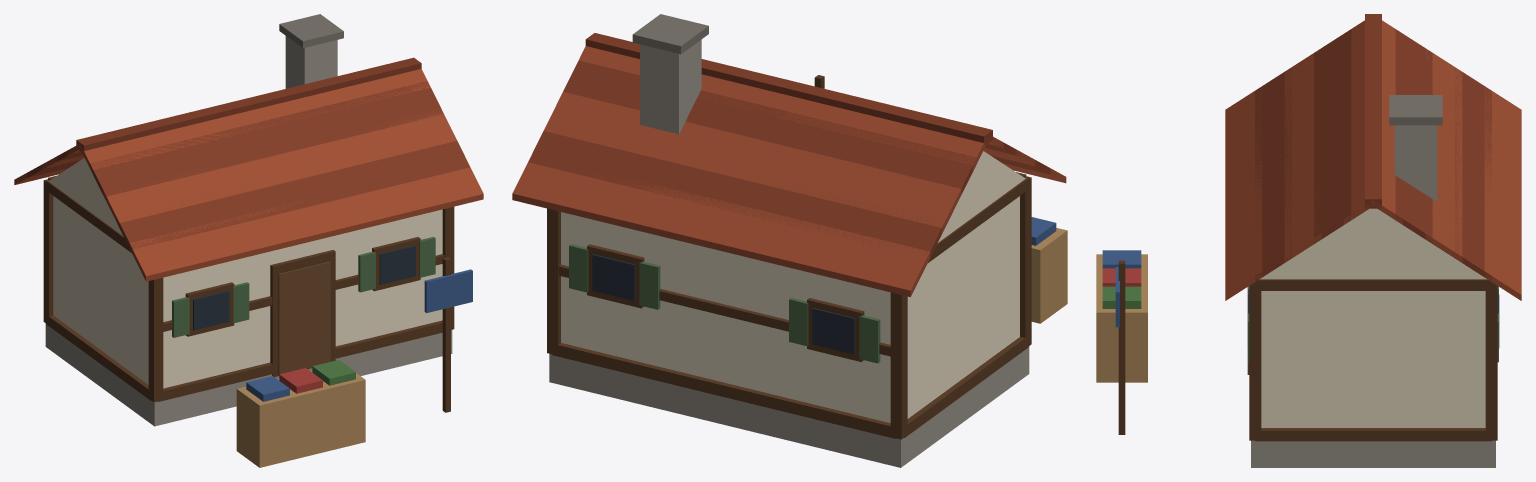
File: tailor.glb
3 views of the same model, side by side, from view 1: azimuth 30°, elevation 25°; view 2: azimuth 150°, elevation 25°; view 3: azimuth 270°, elevation 25° (orthographic). The views are drawn at different scales.
Visible parts, largest first — view 1: tailor; view 2: tailor; view 3: tailor.
Boxes of the visible parts, box(x1,y1,x2,y2) form: tailor: box(14, 14, 483, 467); tailor: box(512, 14, 1067, 467); tailor: box(1096, 14, 1521, 467).
Bounding box in the file's own units: 5.1 × 4.17 × 4.95.
